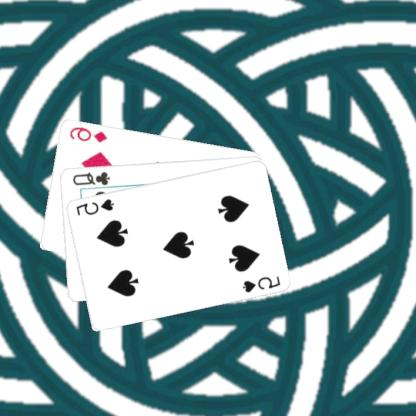5S: (241, 273, 283, 294), (75, 196, 116, 216)
6D: (68, 124, 110, 144)
QC: (72, 169, 112, 186)
